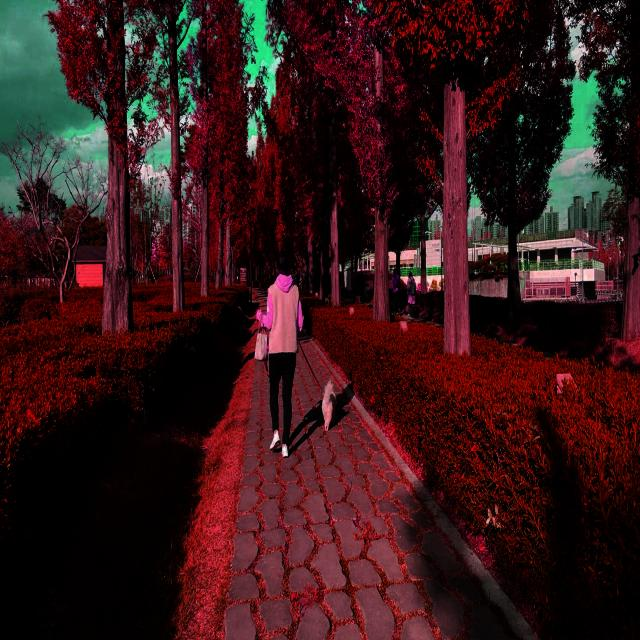Leashed_Dog: (286, 330, 338, 432)
